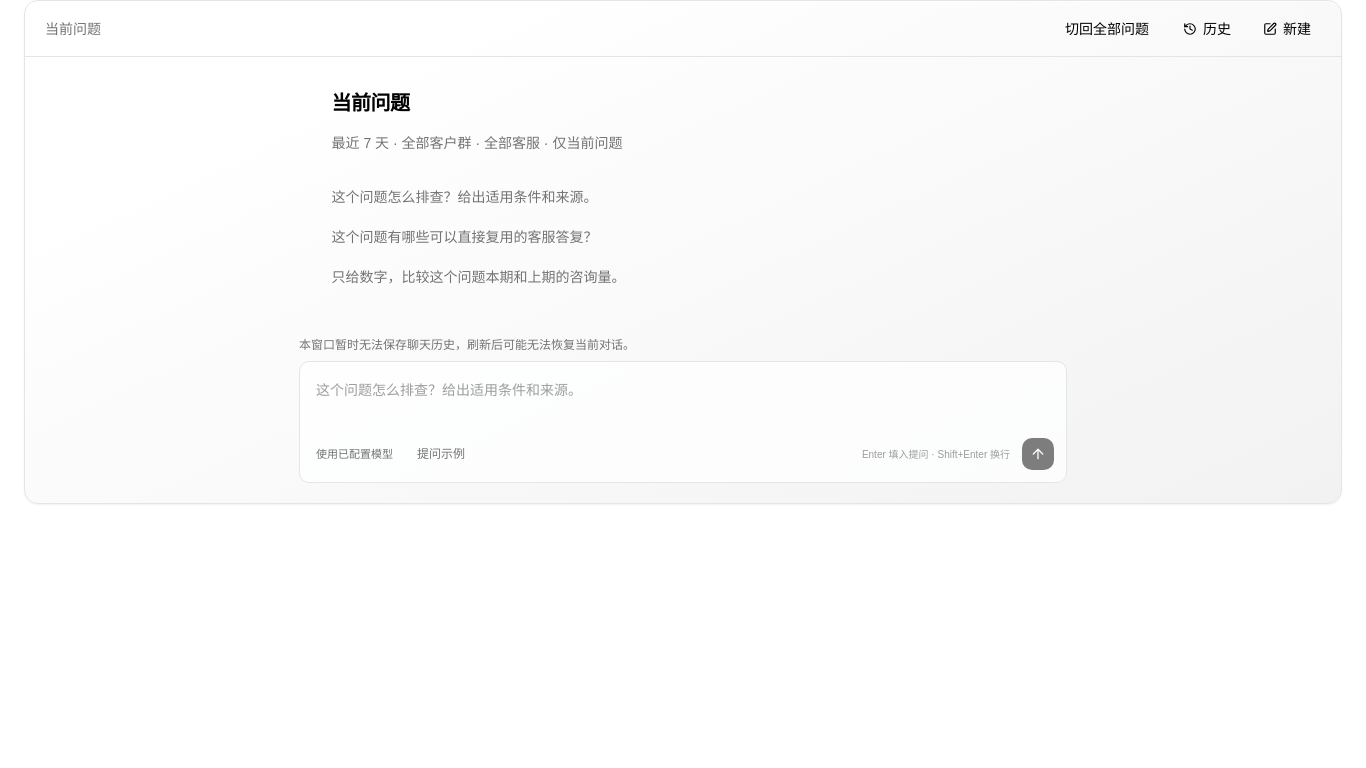
Test: uses topic-specific completions and lets Escape dismiss a suggestion for the current draft
Type "这个问题" into the text box named "向语海Voc提问" at point(683, 402), box [312,374,1054,430]
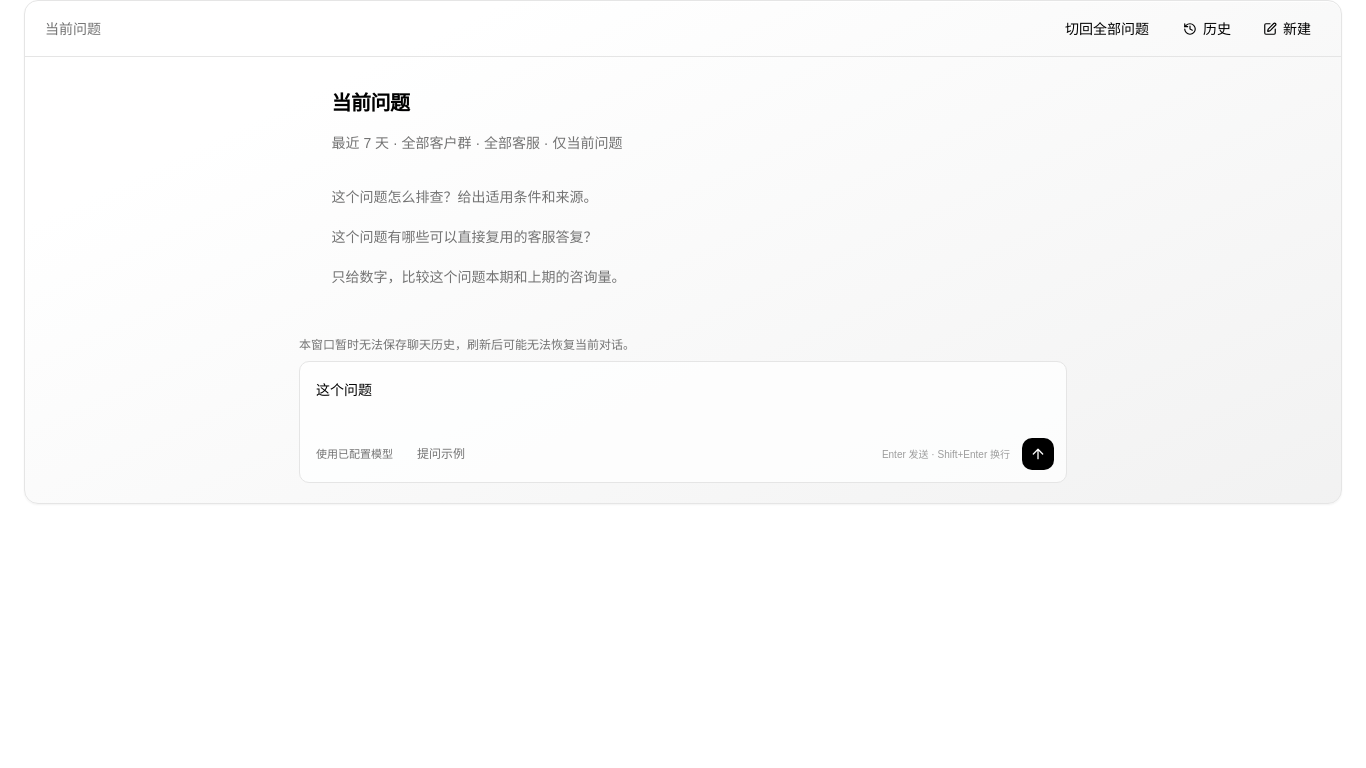
Check: the text "Enter 补全" is not shown
Replace the text in the text box named "向语海Voc提问" with "这个问题怎么" at point(683, 402), box [312,374,1054,430]
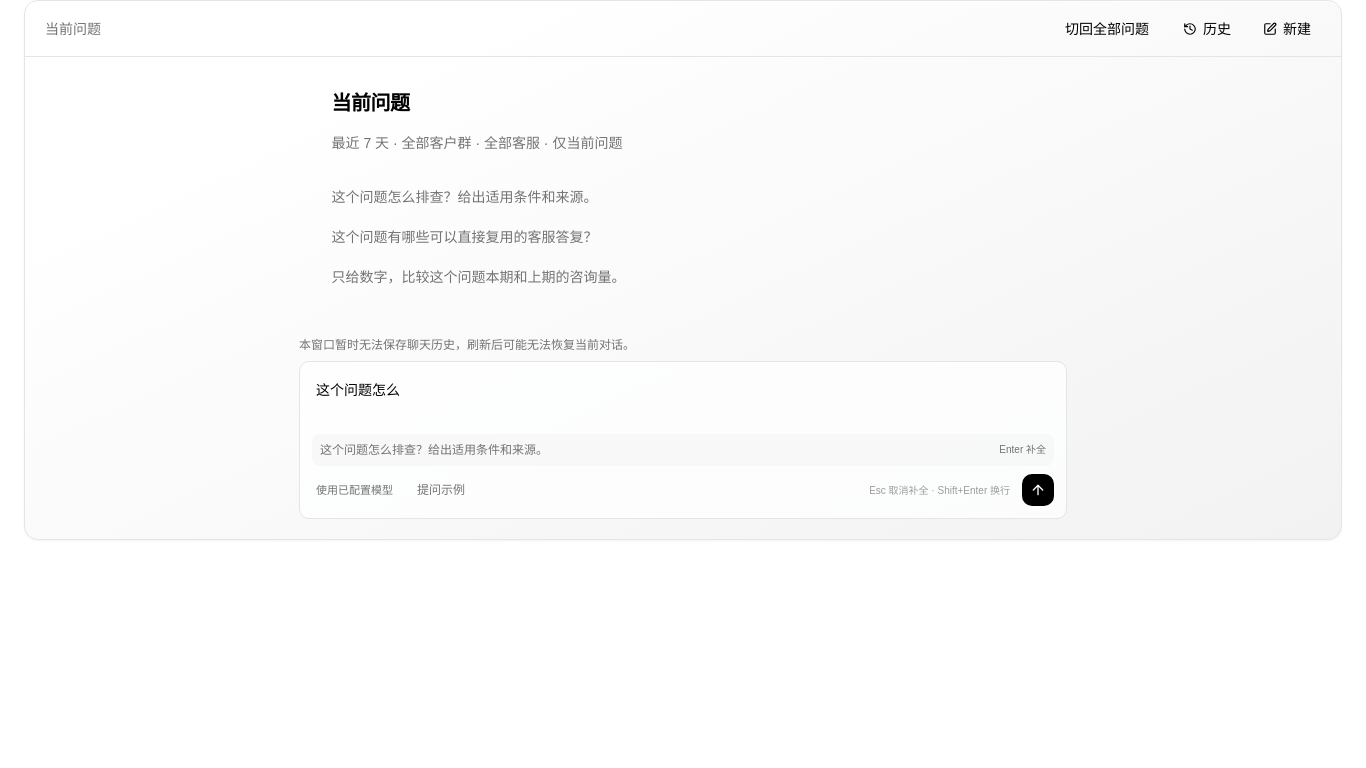
Press Enter in the text box named "向语海Voc提问", box [312,374,1054,430]
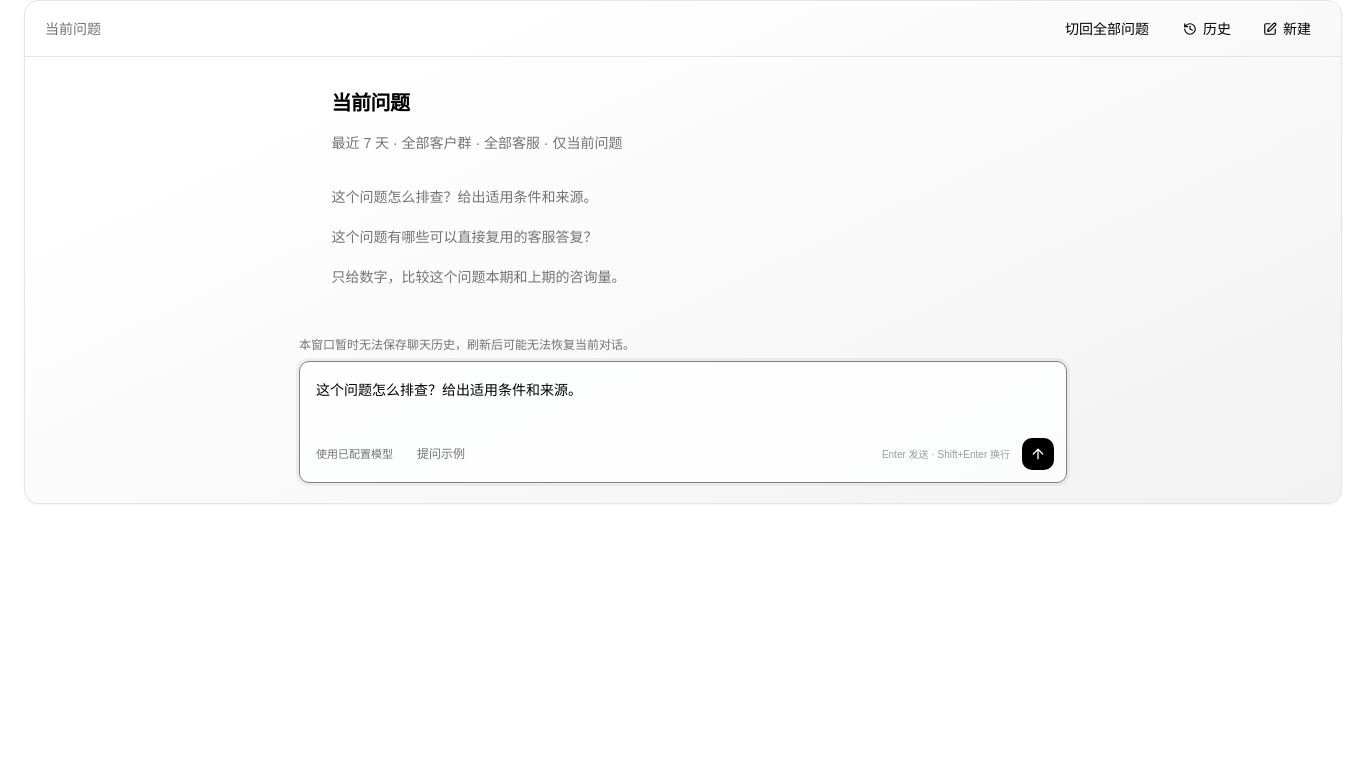
Check: the text box named "向语海Voc提问" holds "这个问题怎么排查？给出适用条件和来源。"
Type "排查" into the text box named "向语海Voc提问" at point(683, 402), box [312,374,1054,430]
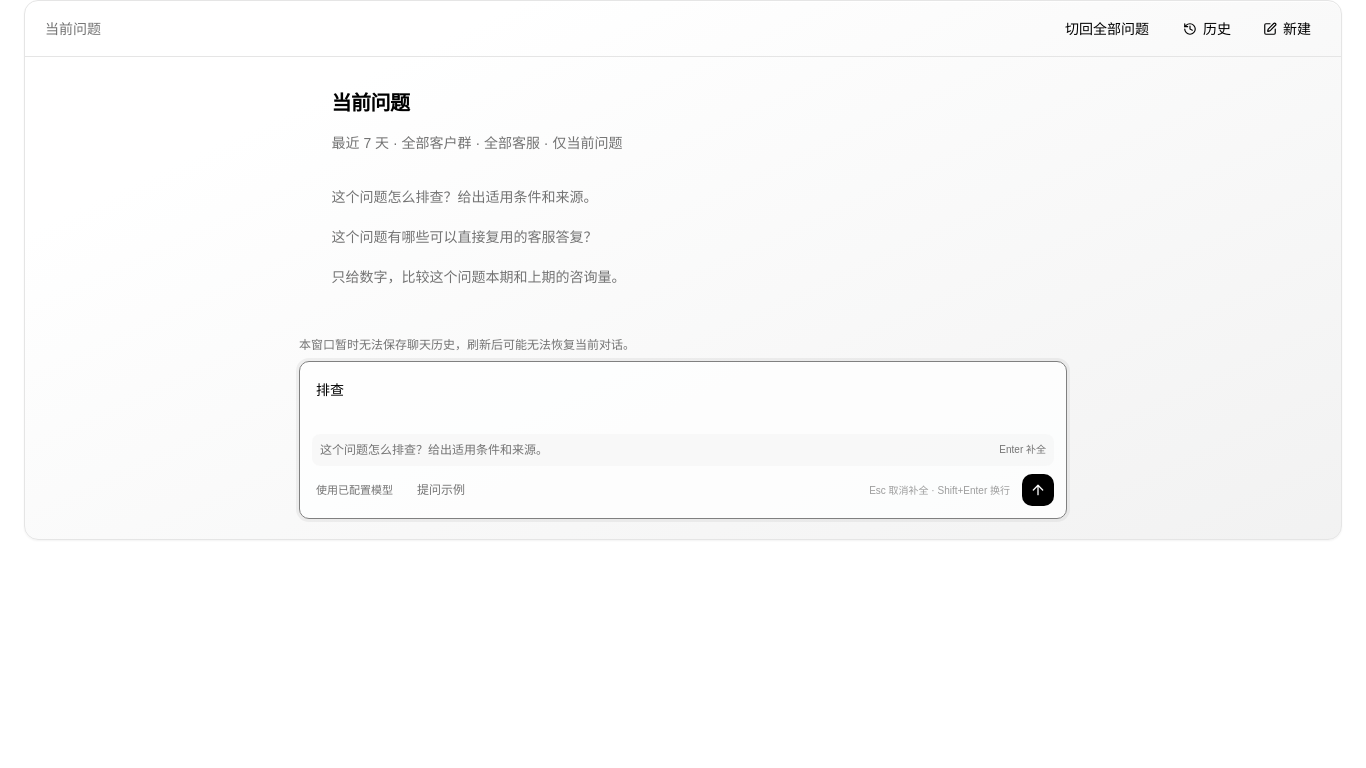
Check: the button "这个问题怎么排查？给出适用条件和来源。 Enter 补全" is shown, box [312,434,1054,466]
Press Escape in the text box named "向语海Voc提问", box [312,374,1054,430]
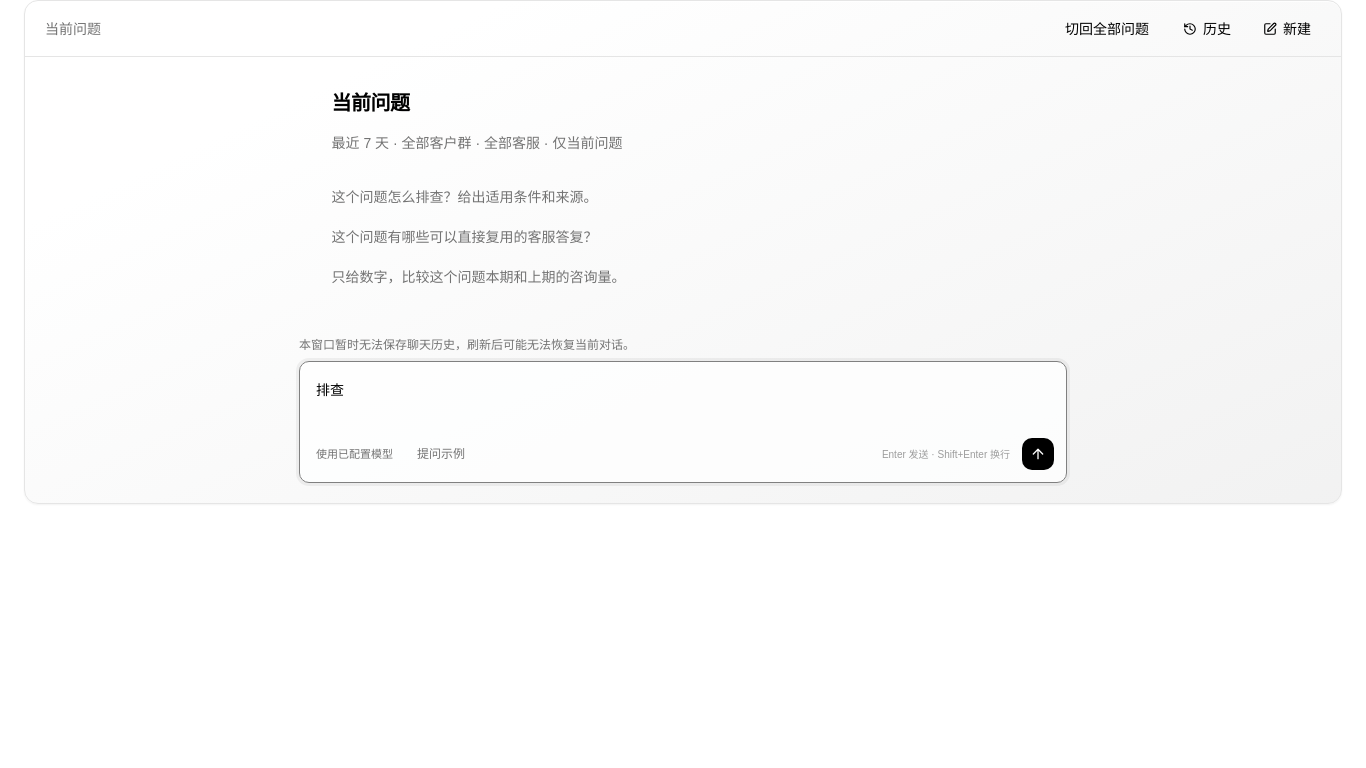
Check: the button "Enter 补全" is gone
Press Enter in the text box named "向语海Voc提问", box [312,374,1054,430]
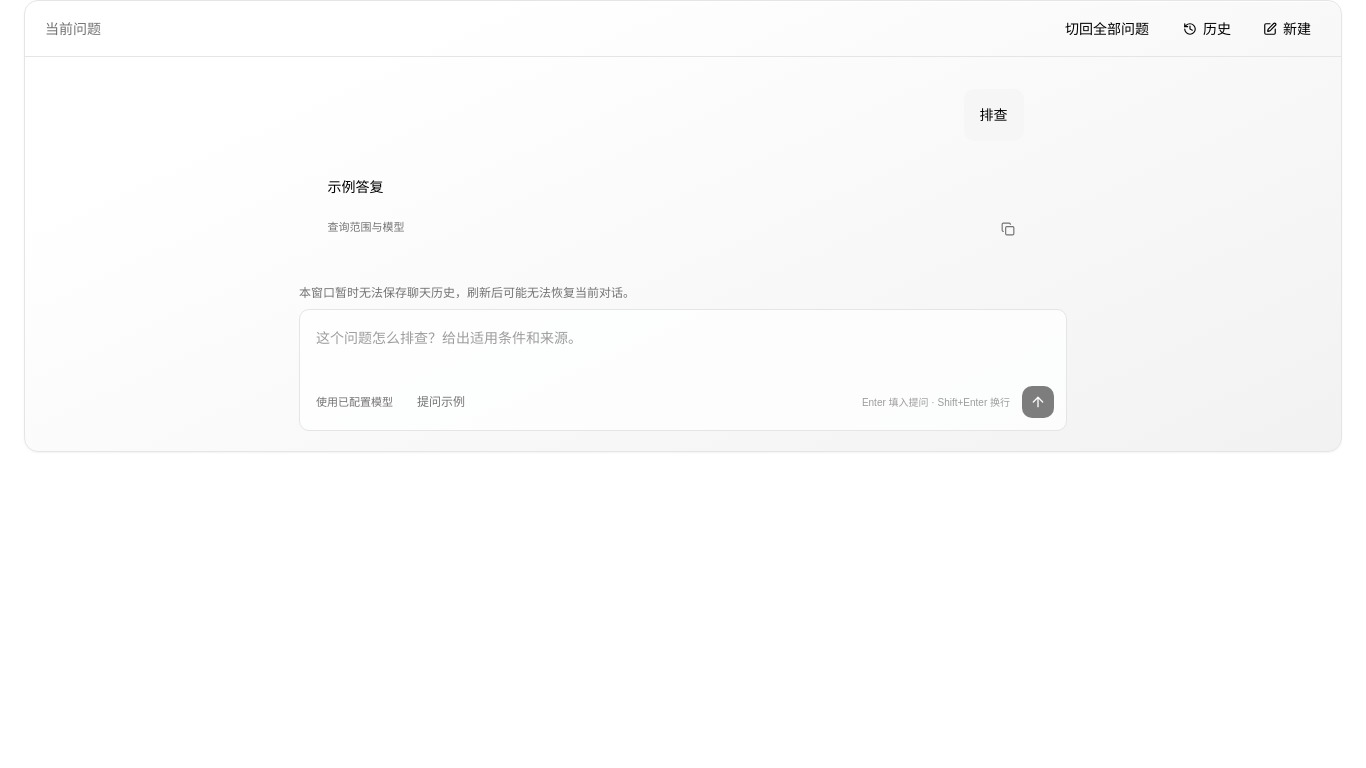
Check: the text "示例答复" is shown, box [328,179,384,195]
